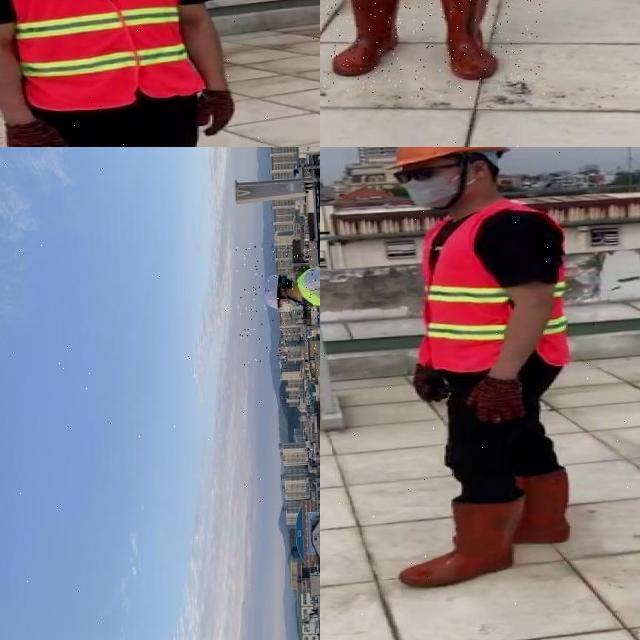boots: (394, 497, 516, 588), (327, 0, 401, 77), (434, 0, 499, 80), (508, 470, 568, 546)
helmet: (391, 147, 511, 165), (258, 270, 286, 314)
vest: (412, 204, 578, 370), (6, 0, 200, 110), (295, 256, 320, 310)
